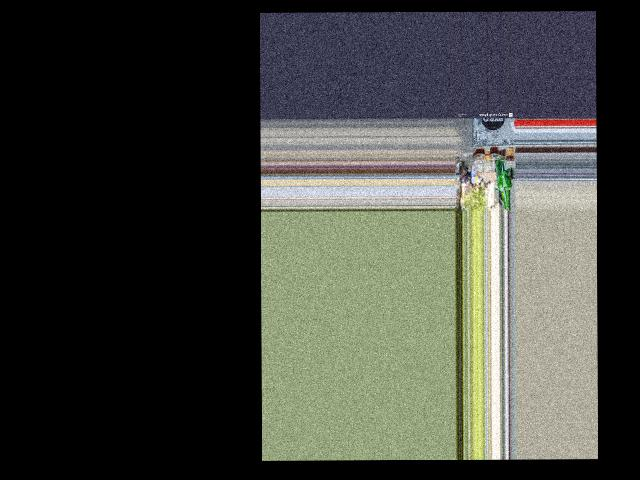beer: (494, 152, 511, 209)
